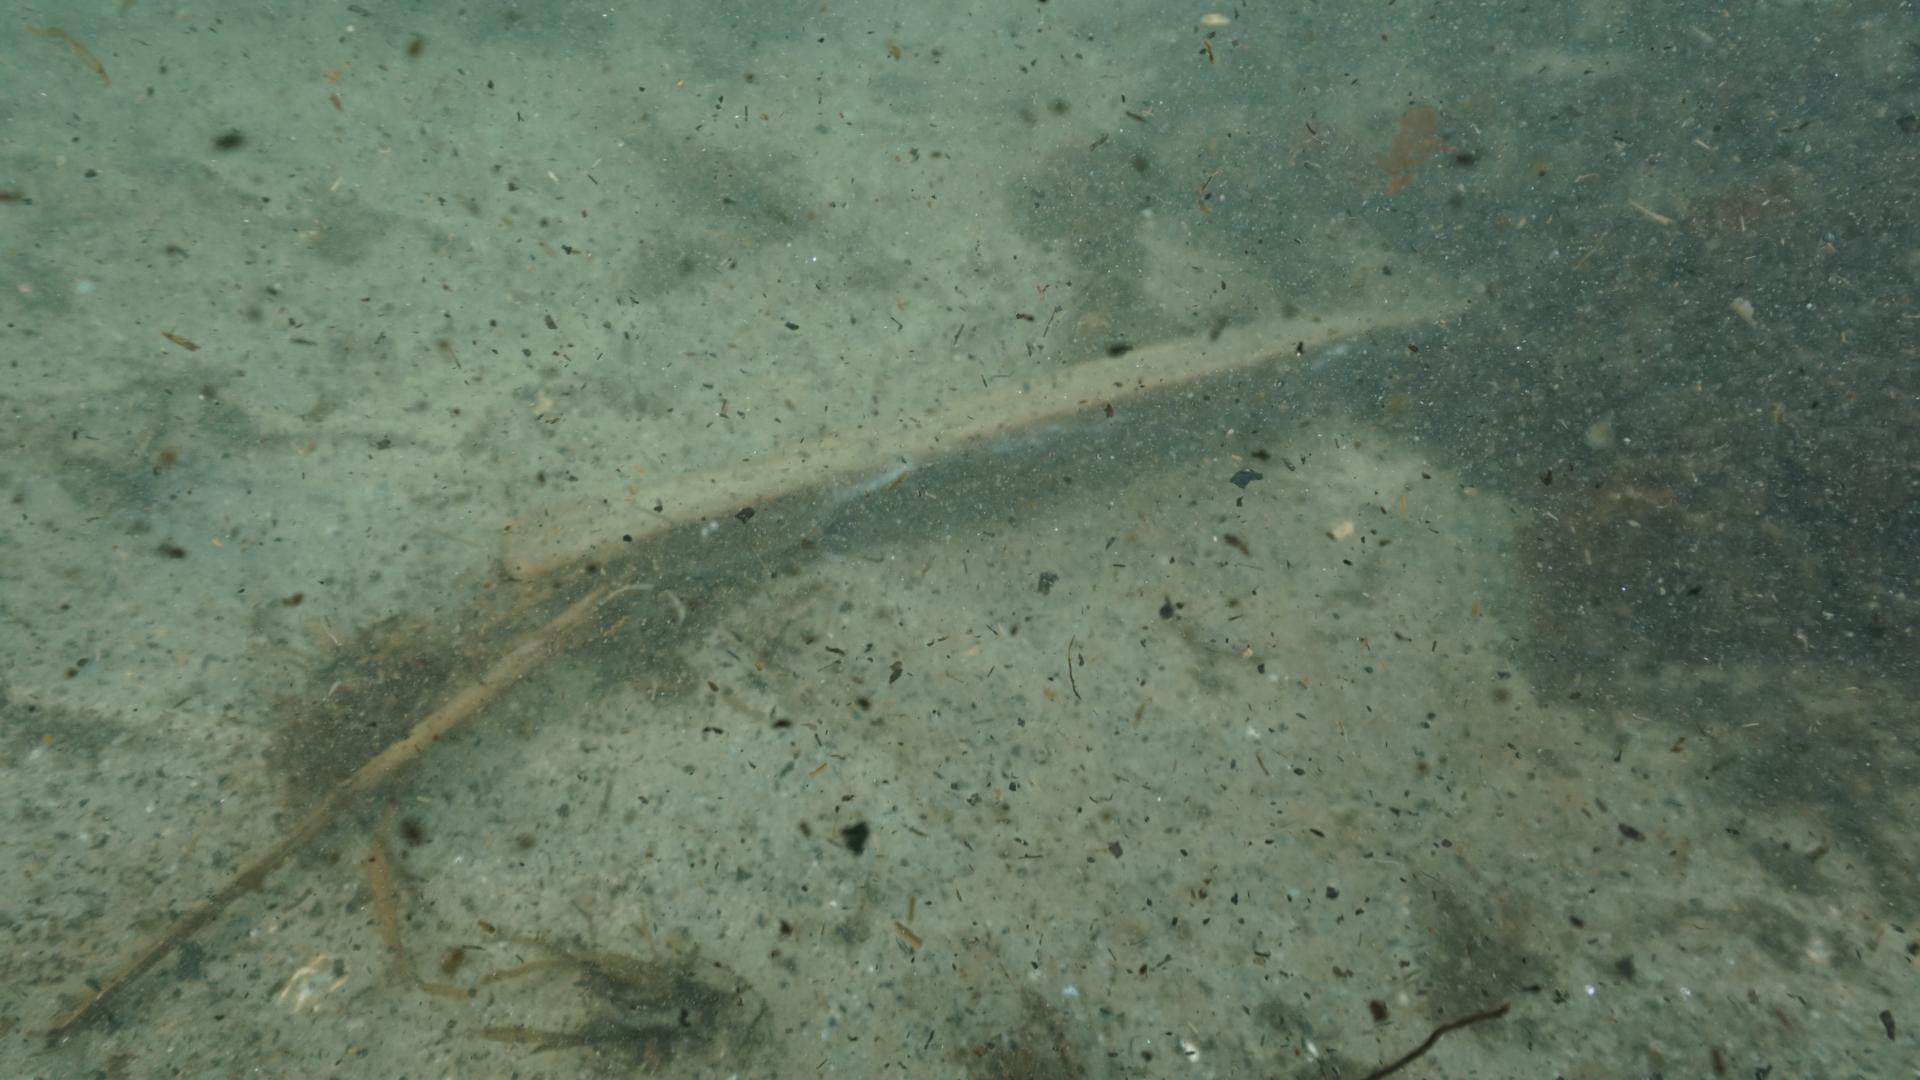wood: (495, 301, 1466, 593), (44, 591, 624, 1040)
